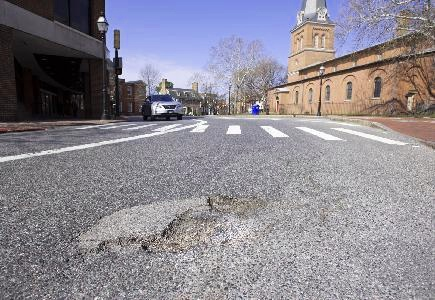pothole: (137, 211, 212, 257), (204, 191, 267, 216)
